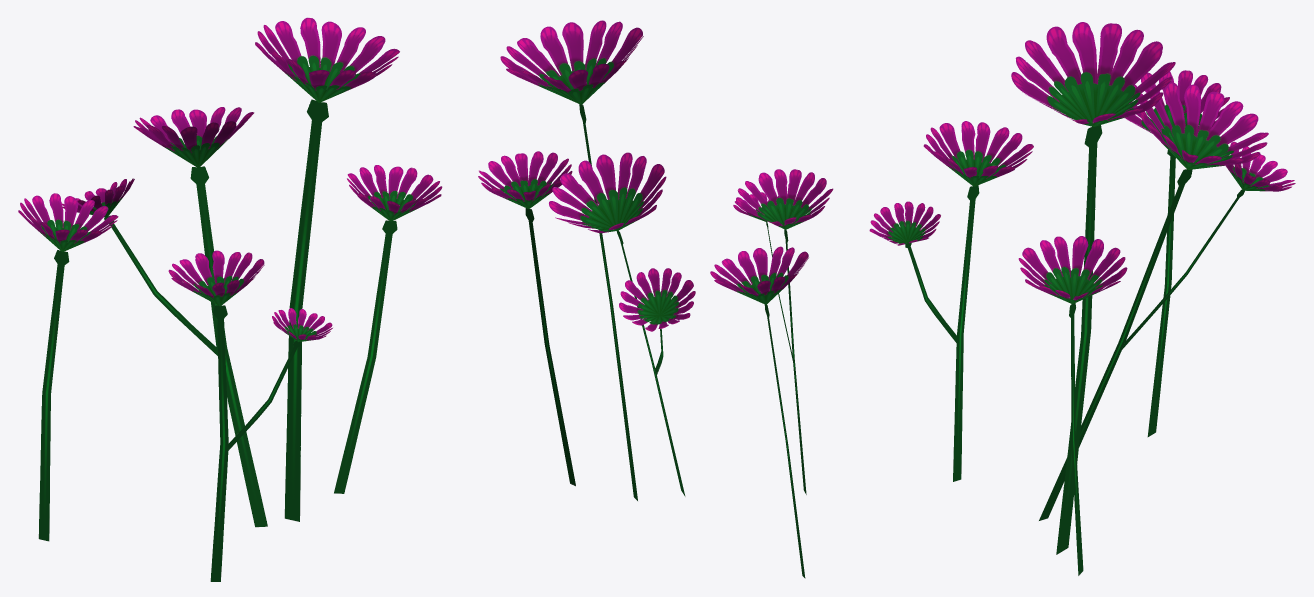
File: Flower_01b.FBX
3 renders of one model, left to right at view 1: azimuth 30°, elevation 25°; view 2: azimuth 150°, elevation 25°; view 3: azimuth 270°, elevation 25°, orthographic. The views are drawn at different scales.
Parts seen in each view (by area): view 1: Flower_01b; view 2: Flower_01b; view 3: Flower_01b.
Part boxes in pixels (x1,y1,x2,y2): Flower_01b: [18, 17, 442, 581]; Flower_01b: [478, 20, 833, 578]; Flower_01b: [869, 22, 1295, 575].
Bounding box in the file's own units: 21.75 × 26.02 × 19.26.
1 material, 1 textured.
